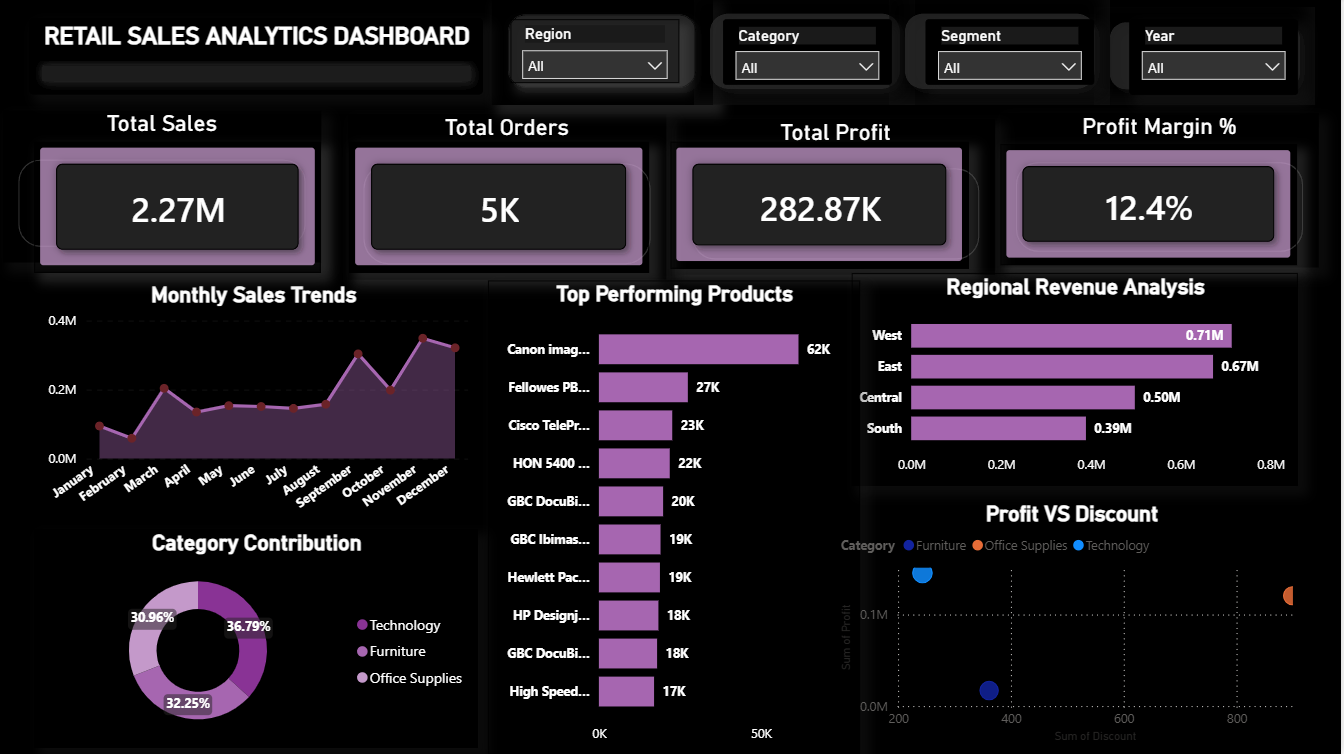

This screenshot's page, from the dashboard's own definition file:
{"tool":"powerbi","page":{"name":"Page 1","canvas":[1280,720],"ordinal":0},"visuals":[{"type":"shape","title":"Profit Margin %","box":[955.3,109.3,302.8,147],"z":0},{"type":"shape","title":"Total Profit","box":[646.2,114.9,302.8,148.3],"z":1000},{"type":"shape","title":"Total Orders","box":[332.8,110.8,302.8,157.7],"z":2000},{"type":"cardVisual","fields":{"Data":["Sum(store_sales superstore_clean.Profit)"]},"box":[640,137.4,284.1,120.8],"z":4000},{"type":"cardVisual","fields":{"Data":["store_sales superstore_clean.Total Orders"]},"box":[334,137.4,285.7,124.9],"z":5000},{"type":"cardVisual","fields":{"Data":["store_sales superstore_clean.Profit Margin %"]},"box":[955.3,138.9,282.5,114.9],"z":6000},{"type":"clusteredBarChart","title":"Regional Revenue Analysis","fields":{"Y":["store_sales superstore_clean.Total Sales"],"Category":["store_sales superstore_clean.Region"]},"box":[813.1,261.9,425,202.4],"z":7000},{"type":"donutChart","title":"Category Contribution","fields":{"Y":["store_sales superstore_clean.Total Sales"],"Category":["store_sales superstore_clean.Category"]},"box":[34.5,506,422.6,208.3],"z":8000},{"type":"clusteredBarChart","title":"Top Performing Products","fields":{"Y":["store_sales superstore_clean.Total Sales"],"Category":["store_sales superstore_clean.product_name"]},"box":[466.7,268.9,354.3,451.1],"z":9000},{"type":"lineChart","title":"Monthly Sales Trends","fields":{"Y":["store_sales superstore_clean.Total Sales"],"Category":["store_sales superstore_clean.order_date.Variation.Date Hierarchy.Month"]},"box":[34.3,270.7,418.3,236.6],"z":10000},{"type":"scatterChart","title":"Profit VS Discount","fields":{"X":["Sum(store_sales superstore_clean.Discount)"],"Y":["Sum(store_sales superstore_clean.Profit)"],"Size":["Sum(store_sales superstore_clean.Sales)"],"Series":["store_sales superstore_clean.Category"]},"box":[798.1,478.1,450.9,235.8],"z":11000},{"type":"shape","box":[1044.3,7.8,210.7,93.7],"z":12000},{"type":"slicer","fields":{"Values":["store_sales superstore_clean.order_date.Variation.Date Hierarchy.Year"]},"box":[1077.1,20.3,160.8,71.8],"z":13000},{"type":"shape","box":[469.9,0,210.7,101.5],"z":14000},{"type":"shape","box":[663.4,0,210.7,101.5],"z":15000},{"type":"shape","box":[849.2,0,210.7,101.5],"z":16000},{"type":"slicer","fields":{"Values":["store_sales superstore_clean.Segment"]},"box":[883.5,20.3,160.8,62.4],"z":17000},{"type":"slicer","fields":{"Values":["store_sales superstore_clean.Category"]},"box":[690,20.3,160.8,62.4],"z":18000},{"type":"slicer","fields":{"Values":["store_sales superstore_clean.Region"]},"box":[488.6,20.3,160.8,60.9],"z":19000},{"type":"shape","title":"Total Sales","box":[4.7,107.7,302.8,144.5],"z":20000},{"type":"cardVisual","fields":{"Data":["store_sales superstore_clean.Total Sales"]},"box":[34.3,137.4,273.2,124.9],"z":21000},{"type":"shape","title":"RETAIL SALES ANALYTICS DASHBOARD","box":[29.8,19,432.1,72.6],"z":21001}]}

Visuals, with their boxes in screenshot pixels (x1, y1, x2, y2), scaled from the page's 1280x720 canvas onto the 1344x754 screenshot:
"Profit Margin %" shape: bbox=[1003, 114, 1321, 268]
"Total Profit" shape: bbox=[679, 120, 996, 276]
"Total Orders" shape: bbox=[349, 116, 667, 281]
cardVisual - Sum(store_sales superstore_clean.Profit): bbox=[672, 144, 970, 270]
cardVisual - store_sales superstore_clean.Total Orders: bbox=[351, 144, 651, 275]
cardVisual - store_sales superstore_clean.Profit Margin %: bbox=[1003, 145, 1300, 266]
"Regional Revenue Analysis" clusteredBarChart: bbox=[854, 274, 1300, 486]
"Category Contribution" donutChart: bbox=[36, 530, 480, 748]
"Top Performing Products" clusteredBarChart: bbox=[490, 282, 862, 753]
"Monthly Sales Trends" lineChart: bbox=[36, 283, 475, 531]
"Profit VS Discount" scatterChart: bbox=[838, 501, 1311, 748]
shape: bbox=[1097, 8, 1318, 106]
slicer - store_sales superstore_clean.order_date.Variation.Date Hierarchy.Year: bbox=[1131, 21, 1300, 96]
shape: bbox=[493, 0, 715, 106]
shape: bbox=[697, 0, 918, 106]
shape: bbox=[892, 0, 1113, 106]
slicer - store_sales superstore_clean.Segment: bbox=[928, 21, 1097, 87]
slicer - store_sales superstore_clean.Category: bbox=[724, 21, 893, 87]
slicer - store_sales superstore_clean.Region: bbox=[513, 21, 682, 85]
"Total Sales" shape: bbox=[5, 113, 323, 264]
cardVisual - store_sales superstore_clean.Total Sales: bbox=[36, 144, 323, 275]
"RETAIL SALES ANALYTICS DASHBOARD" shape: bbox=[31, 20, 485, 96]
